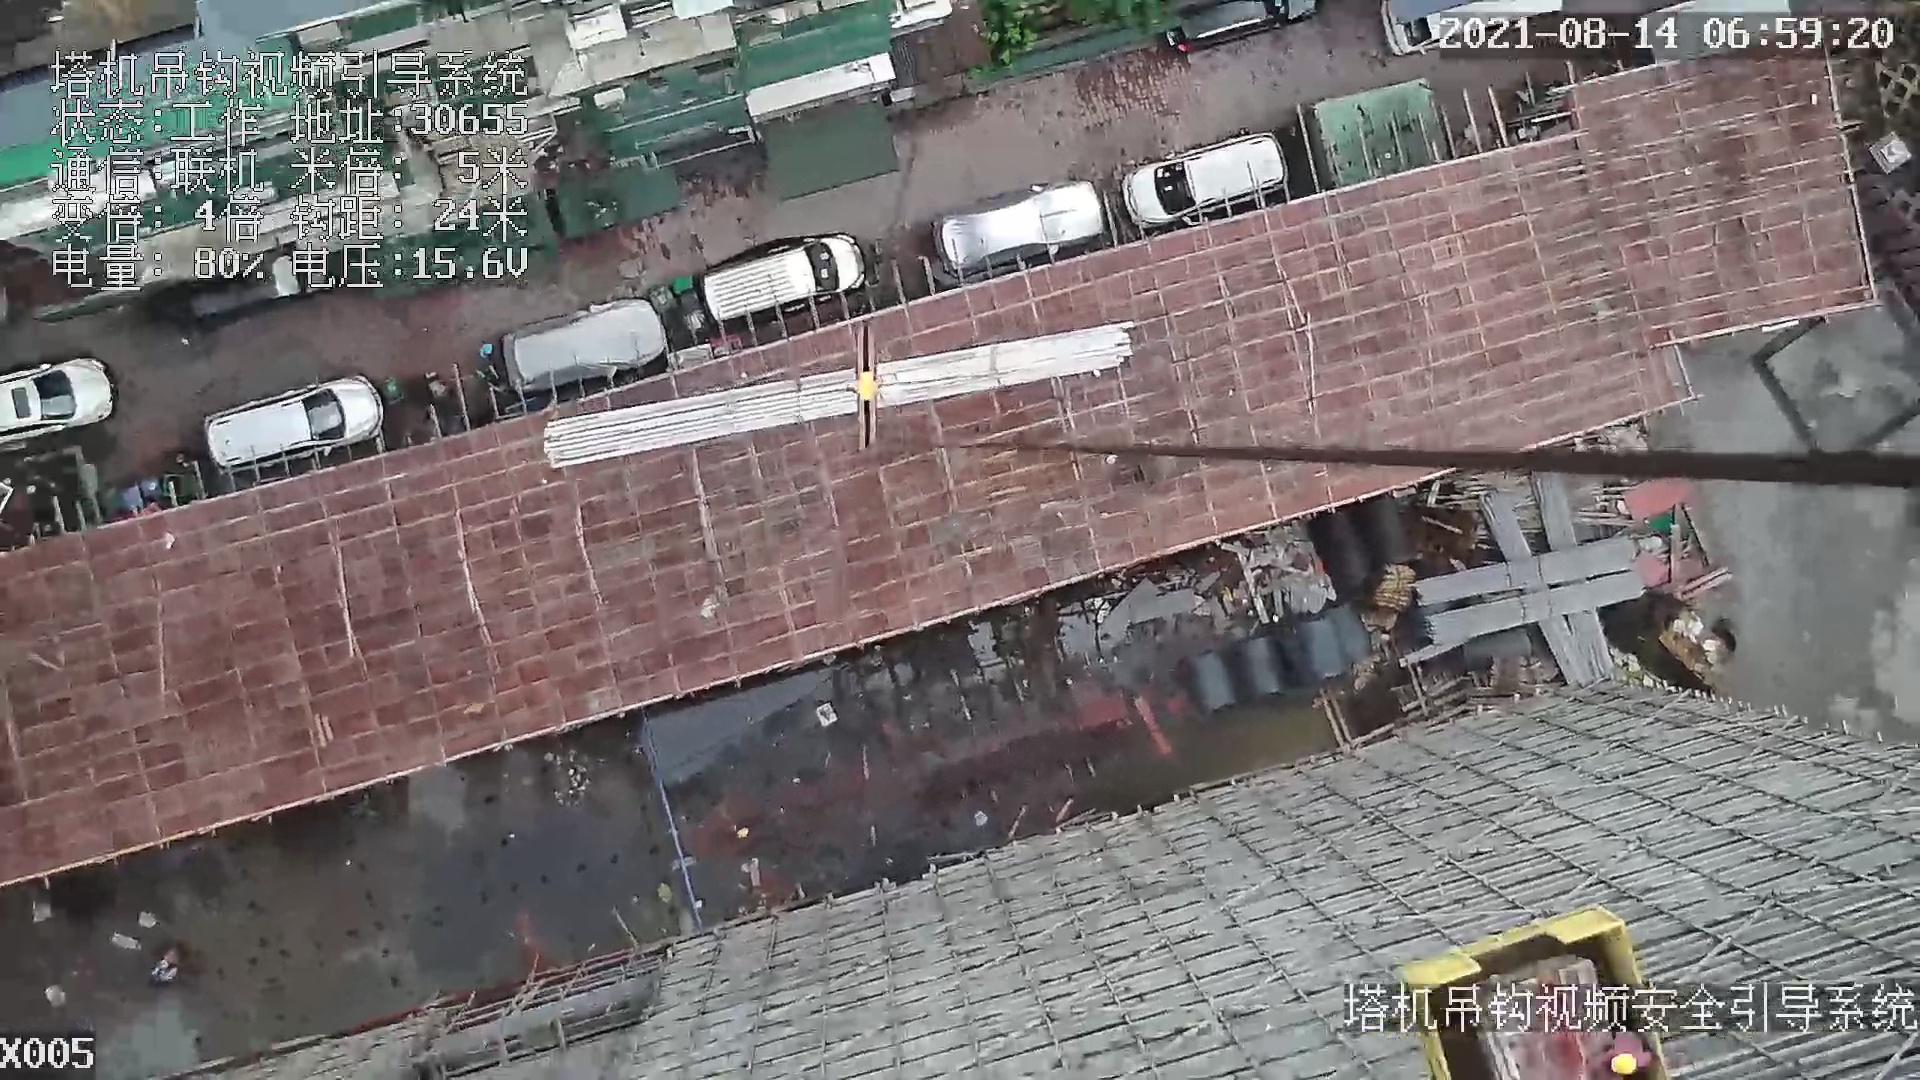helmet: (1609, 1052, 1639, 1075)
hook: (840, 321, 885, 446)
person: (1597, 1032, 1655, 1080)
rebar: (543, 320, 1139, 469), (1481, 495, 1589, 683), (1532, 473, 1615, 683), (1429, 570, 1644, 648), (1417, 535, 1634, 605)
wood: (1373, 564, 1413, 611)
